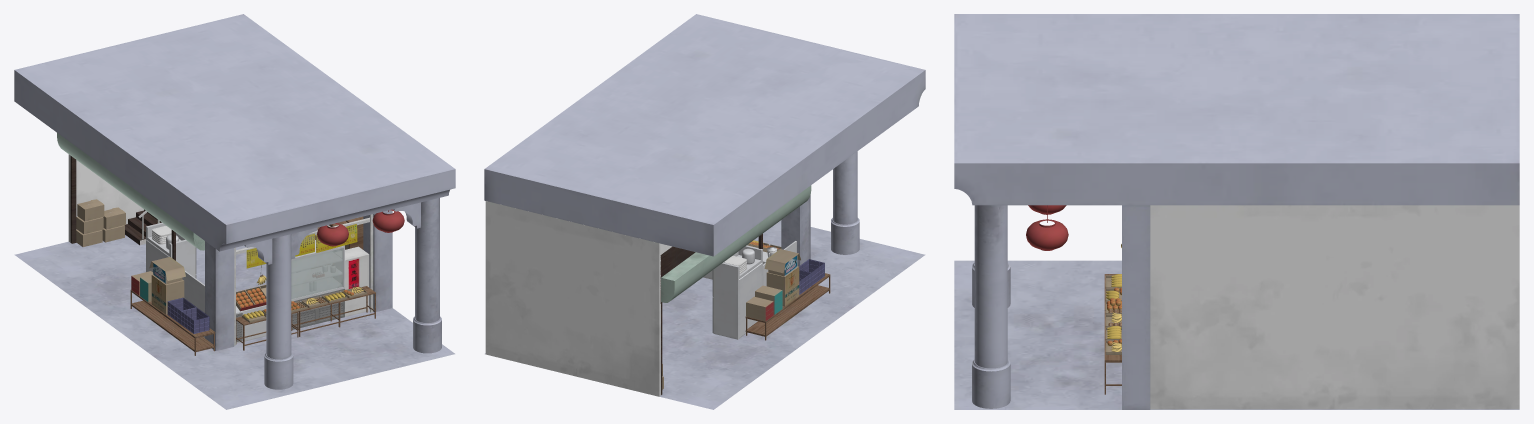
Rendered from xinhua-gongyi.glb.
The picture shows the model from 3 angles, left to right: view 1: azimuth 30°, elevation 25°; view 2: azimuth 150°, elevation 25°; view 3: azimuth 270°, elevation 25°; orthographic projection. The views are drawn at different scales.
Visible parts, largest first — view 1: Gonl; view 2: Gonl; view 3: Gonl.
Boxes of the visible parts, <box> form: Gonl: <box>14,14,455,409</box>; Gonl: <box>484,14,925,409</box>; Gonl: <box>954,14,1519,409</box>.
Size of the model in its own units: 6.75 by 5.21 by 10.82.
Materials: 3 (3 with a texture image).
